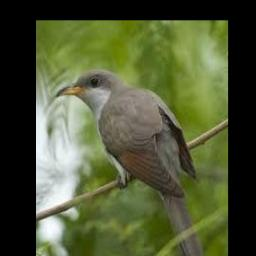Cuckoo: (56, 69, 208, 256)
